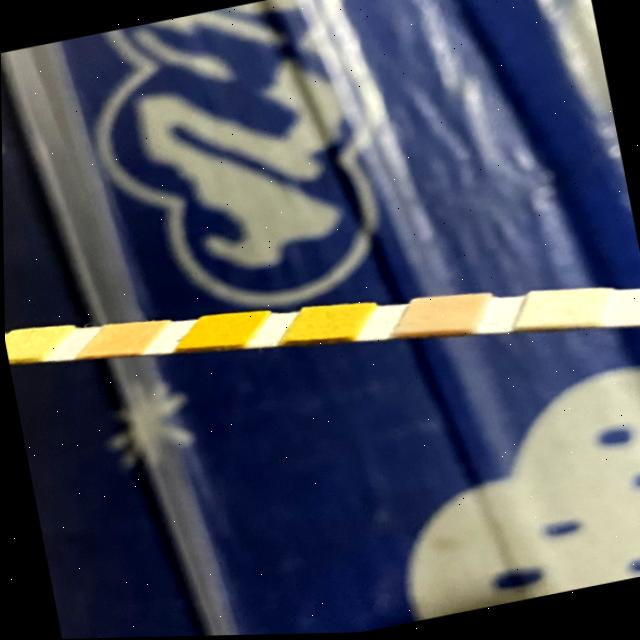Bilirubin: (522, 290, 599, 330)
Blood: (189, 310, 257, 346)
Ketone: (404, 295, 476, 335)
Protein: (4, 325, 50, 357)
SpGravity: (295, 303, 360, 340)
pH: (97, 320, 150, 353)
